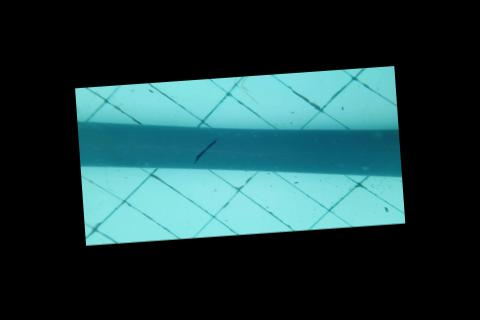keretakan: (189, 135, 221, 164)
